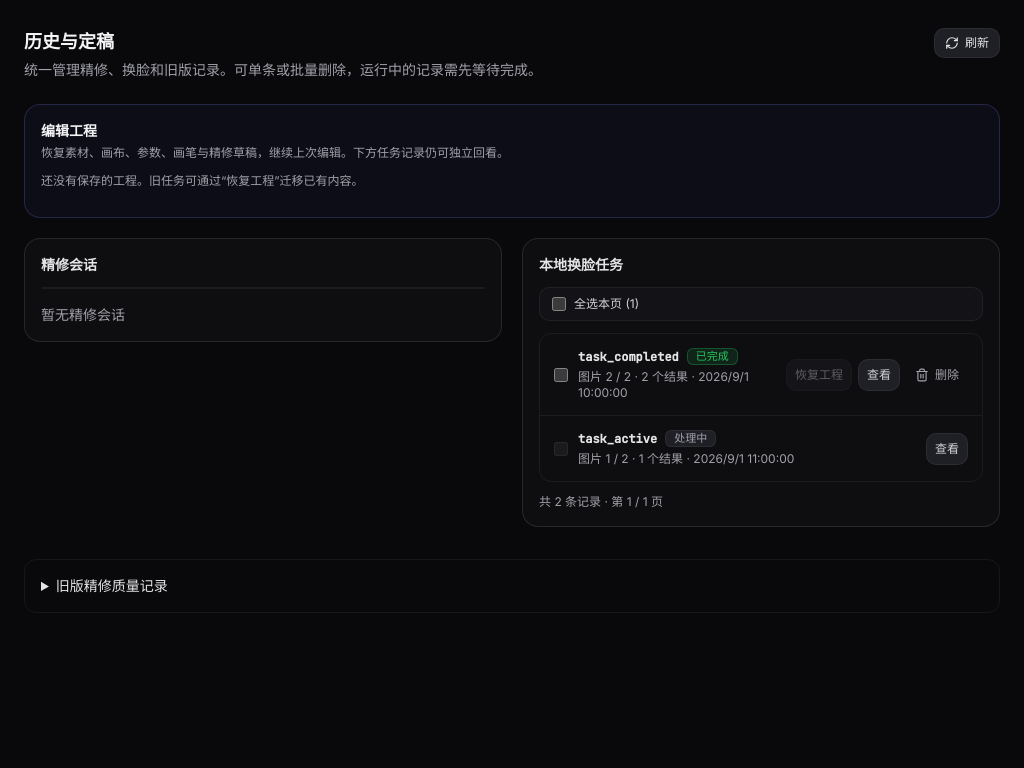
Test: HistoryWorkspace batch task deletion › allows deleting a record from within the opened detail dialog
The image size is (1024, 768).
Note: Open detail dialog
Click the 1st button "查看".
click(879, 374)  # box [858,358,900,390]
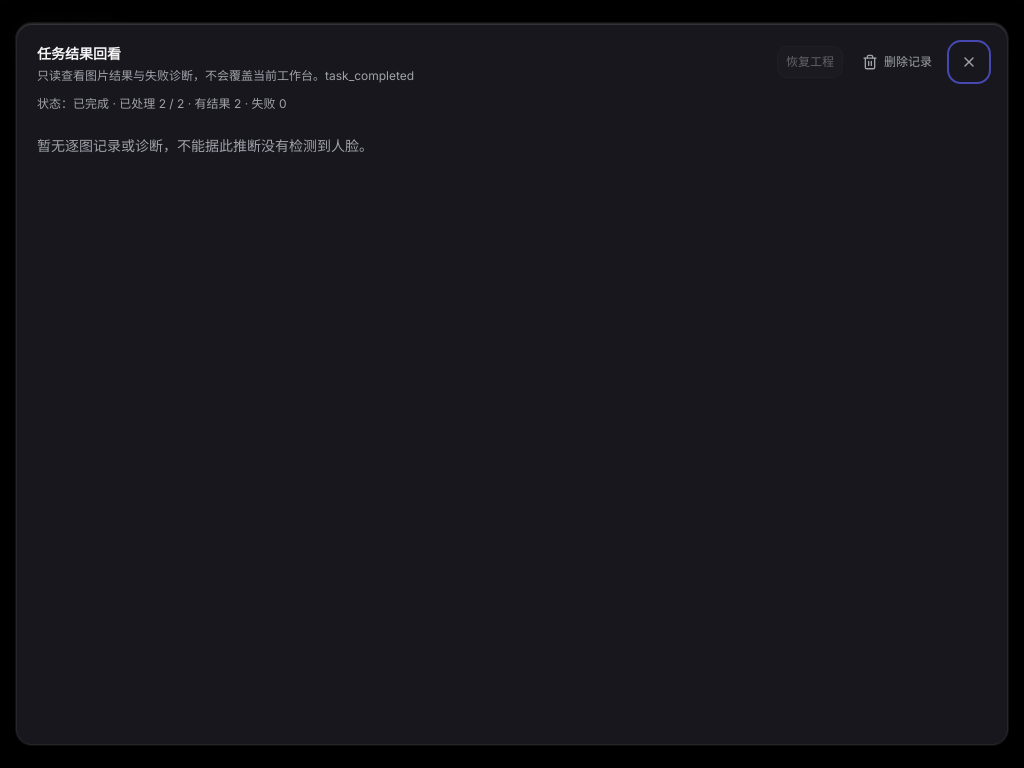
Check: the dialog "任务结果回看" is shown
Note: Dialog has a delete button for terminal task
Click the button with aria-label "删除任务 task_completed".
click(897, 62)  # box [851,47,943,77]
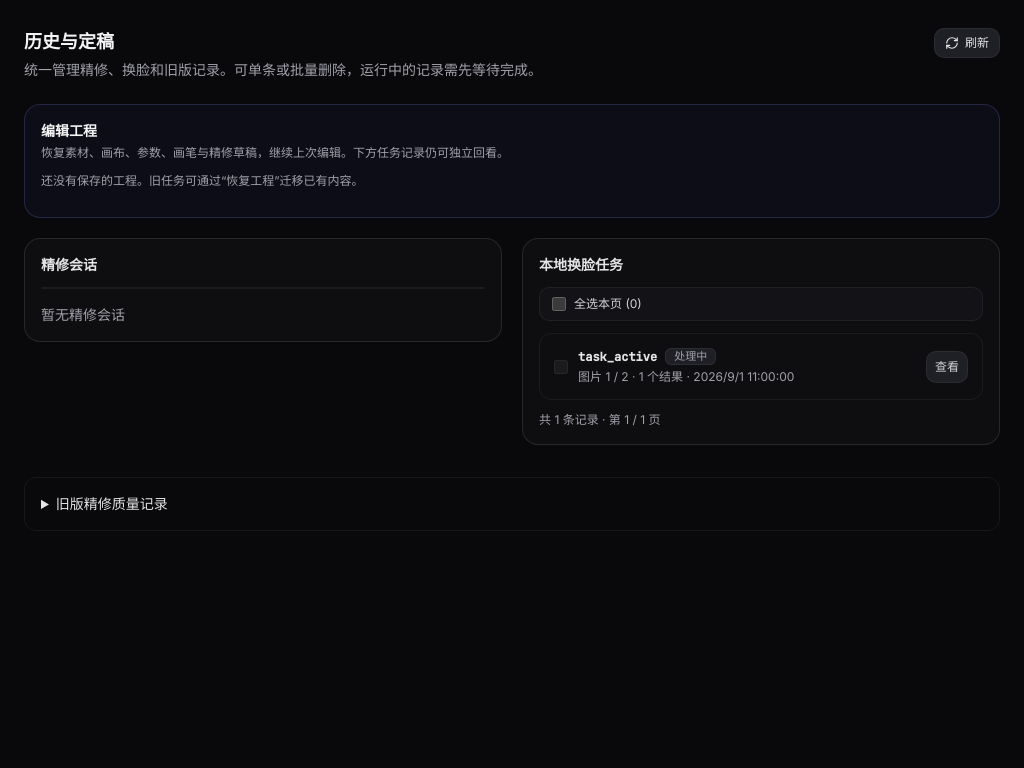
Check: the heading "任务结果回看" is gone
Check: the button "task_completed" is gone
